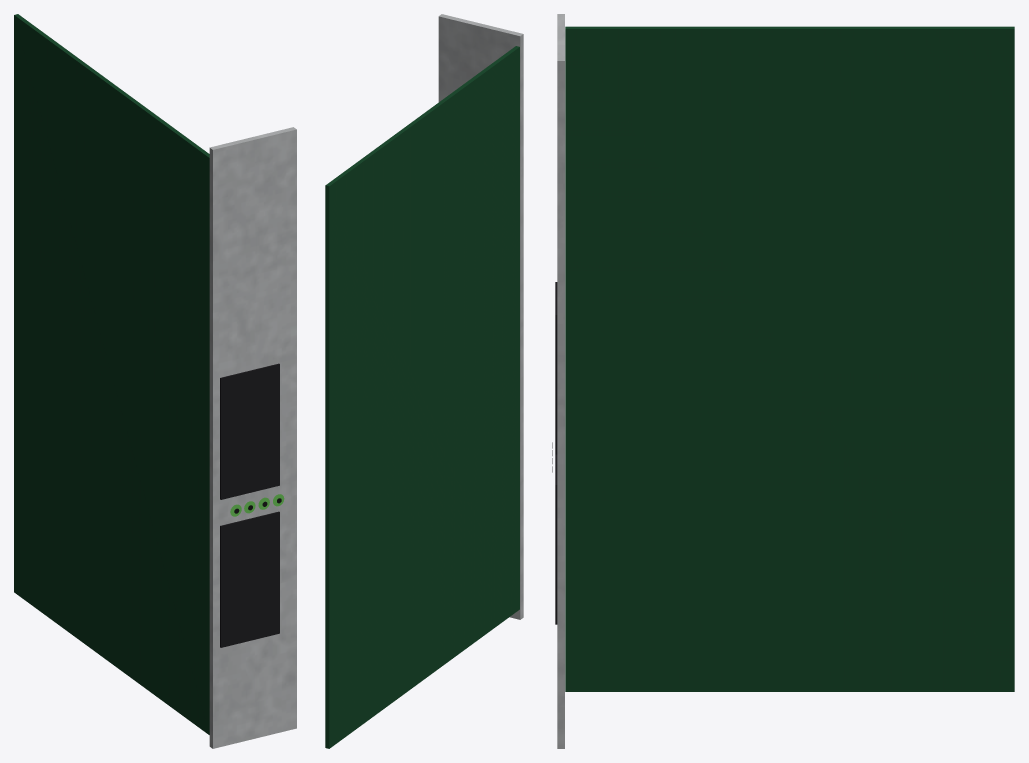
The model's file is XL710-QDA2-FH.far.glb.
3 views of the same model, side by side, from view 1: azimuth 30°, elevation 25°; view 2: azimuth 150°, elevation 25°; view 3: azimuth 270°, elevation 25° (orthographic). The views are drawn at different scales.
Visible parts, largest first — view 1: Card_far; view 2: Card_far; view 3: Card_far.
Part boxes in pixels (left/top/right/bottom): Card_far: left=14, top=14, right=296, bottom=748; Card_far: left=325, top=14, right=523, bottom=748; Card_far: left=555, top=14, right=1014, bottom=748.
Bounding box in the file's own units: 0.0146 × 0.0996 × 0.0606.
Materials: 3 (2 with a texture image).
